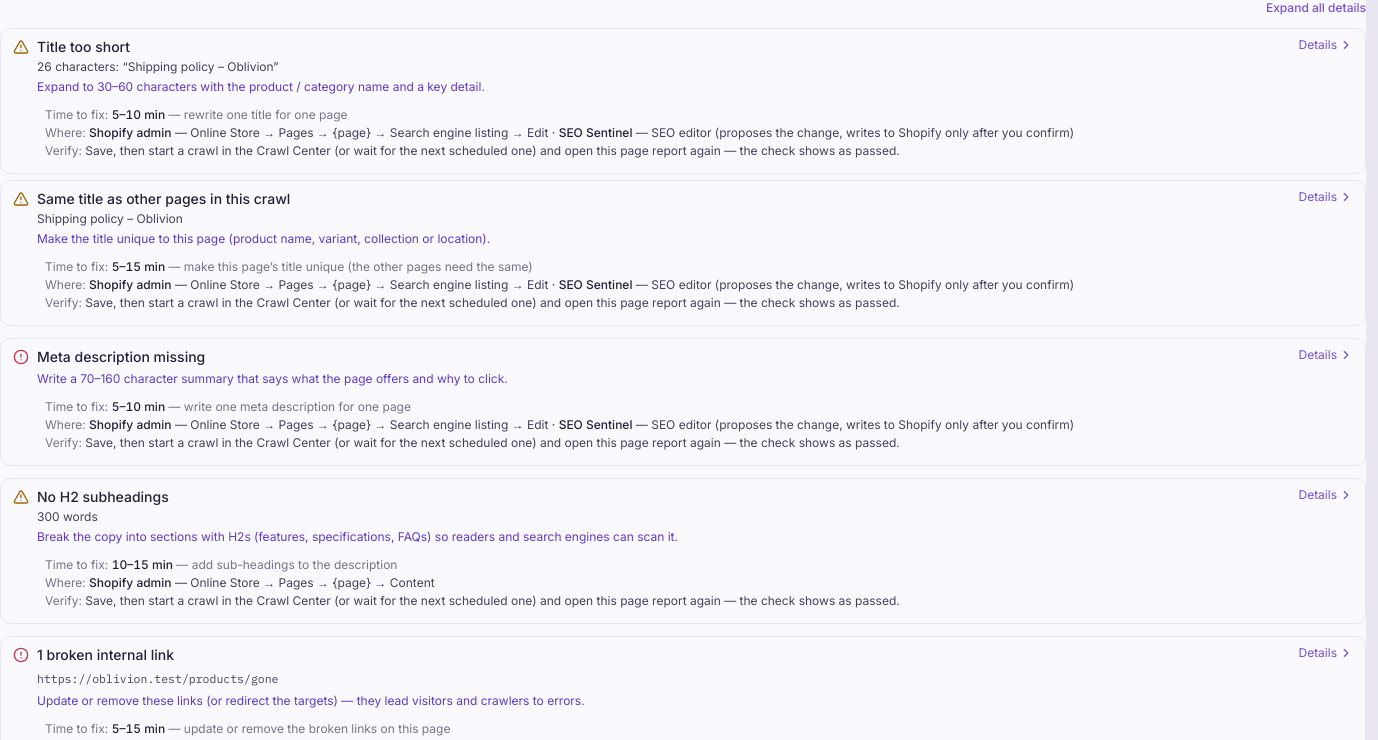
Scenario: expandable issue details › missing meta, missing ALT, repeated images and broken links each show the exact elements
Click the button with test id "details-all": [1316, 8] box [1266,0,1366,16]
(page scrolled)
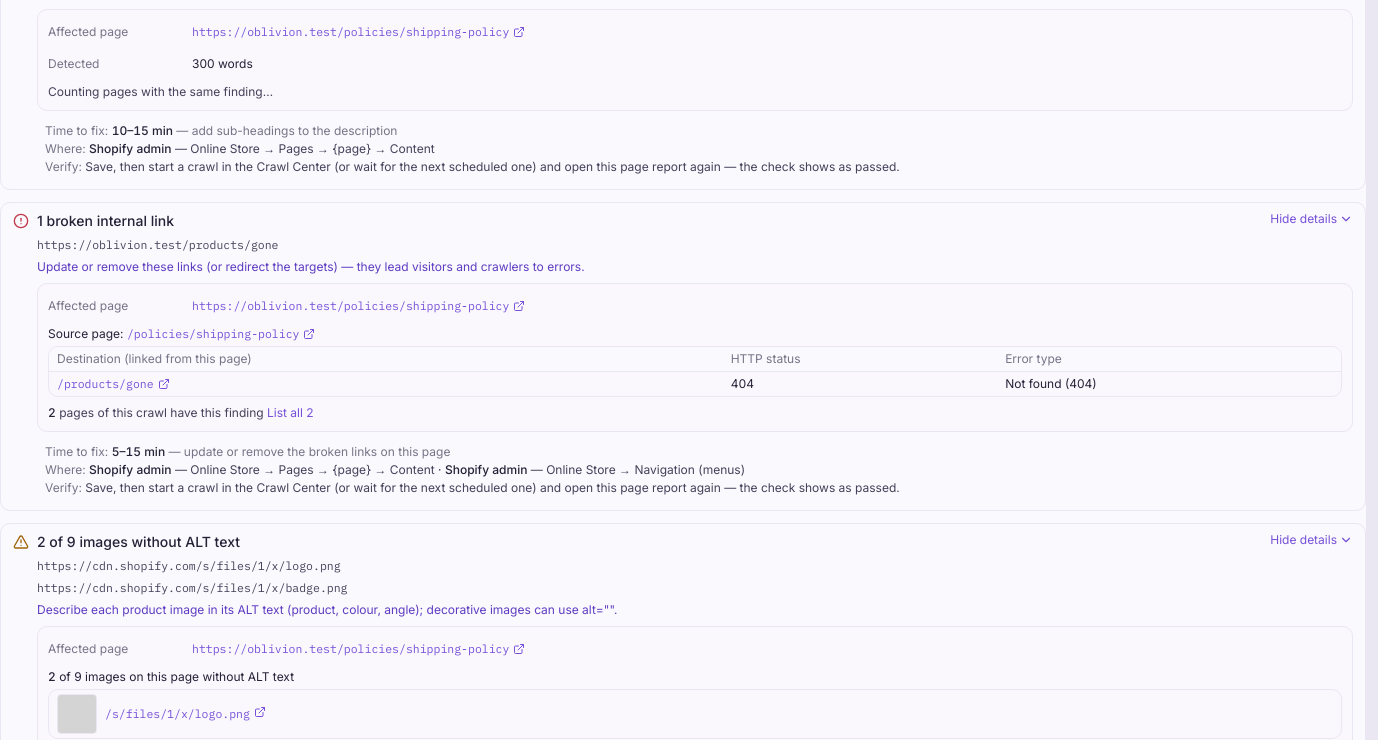
Check: the element with test id "broken-links-table" shows "Source page", box [48,326,127,341]
Check: the element with test id "broken-links-table" shows "404", box [731,376,754,391]
Check: the element with test id "broken-links-table" shows "Not found (404)", box [1005,376,1097,391]
